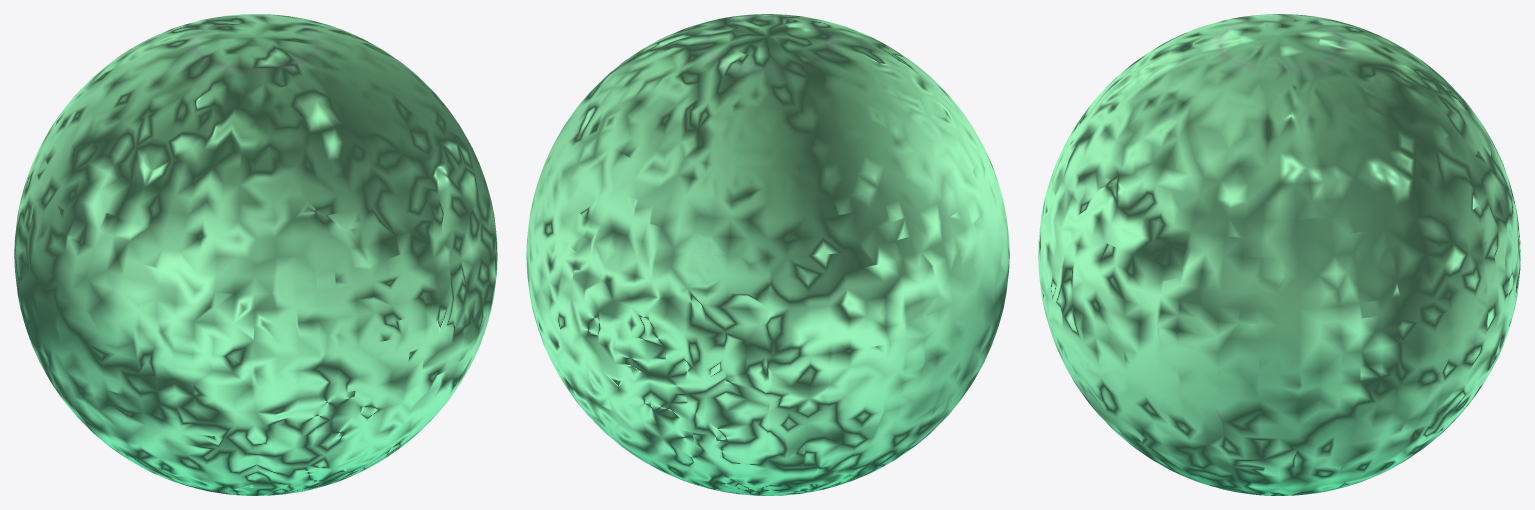
Rendered from ball.glb.
3 renders of one model, left to right at view 1: azimuth 30°, elevation 25°; view 2: azimuth 150°, elevation 25°; view 3: azimuth 270°, elevation 25°, orthographic.
Parts seen in each view (by area): view 1: bdec_pj6skbay.glb; view 2: bdec_pj6skbay.glb; view 3: bdec_pj6skbay.glb.
Boxes of the visible parts, box(x1,y1,x2,y2) form: bdec_pj6skbay.glb: box(14, 14, 497, 495); bdec_pj6skbay.glb: box(526, 14, 1009, 495); bdec_pj6skbay.glb: box(1038, 14, 1520, 495).
Bounding box in the file's own units: 1 × 1 × 1.
Materials: 1 (1 with a texture image).
